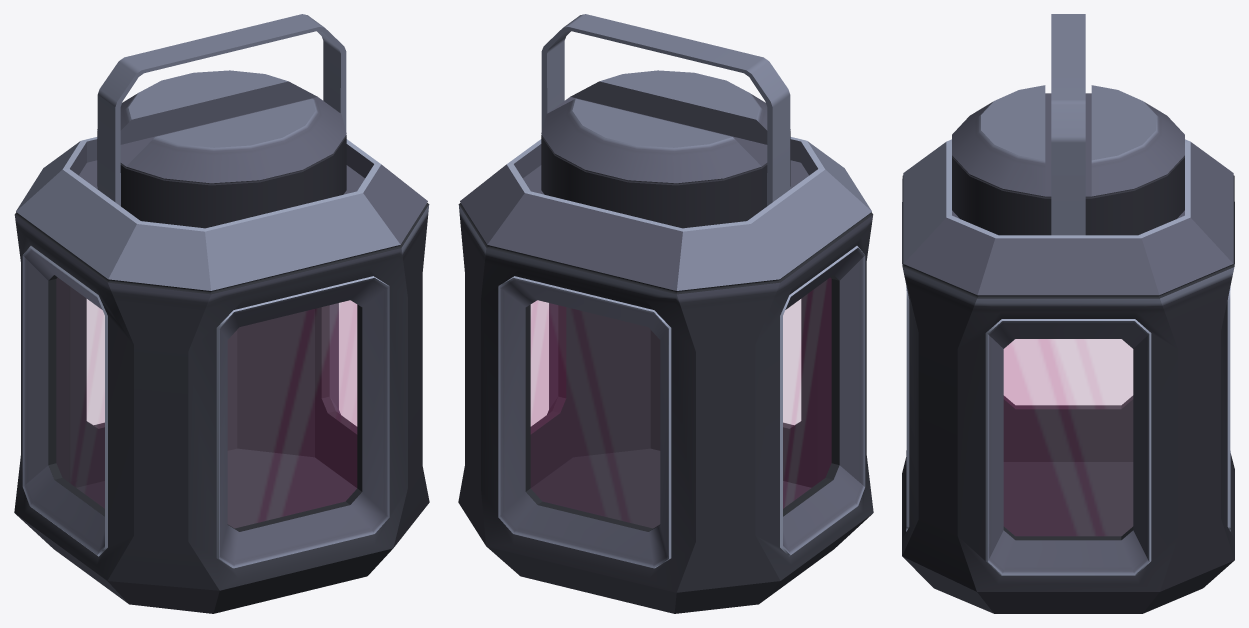
File: Battery.fbx
3 renders of one model, left to right at view 1: azimuth 30°, elevation 25°; view 2: azimuth 150°, elevation 25°; view 3: azimuth 270°, elevation 25°, orthographic.
Parts seen in each view (by area): view 1: battery; view 2: battery; view 3: battery.
Boxes of the visible parts, x1,y1,x2,y2 form: battery: (14, 14, 429, 613); battery: (458, 14, 873, 613); battery: (902, 14, 1234, 613).
Size of the model in its own units: 1.1 by 1.64 by 1.
